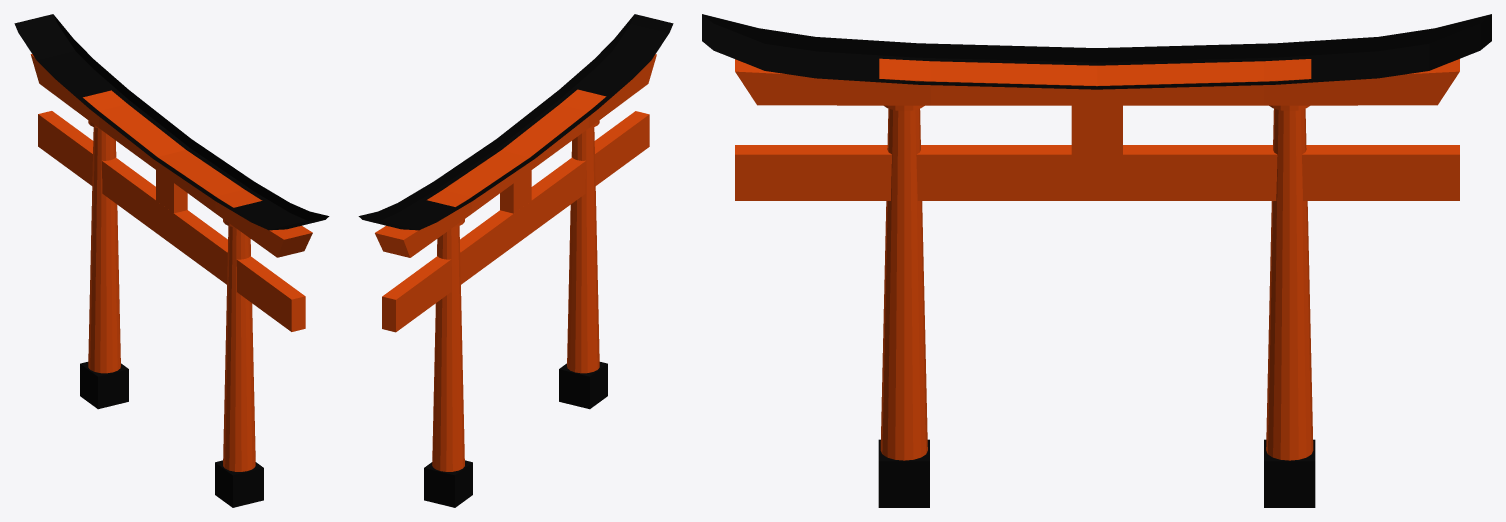
Rendered from Spawnpoint_01_rdy.fbx.
3 views of the same model, side by side, from view 1: azimuth 30°, elevation 25°; view 2: azimuth 150°, elevation 25°; view 3: azimuth 270°, elevation 25° (orthographic). The views are drawn at different scales.
Parts seen in each view (by area): view 1: Cube.003, Cube.005, Cube.004, Cylinder.002, Cylinder, Cube, Cube.001, Cube.002; view 2: Cube.003, Cube.005, Cube.004, Cylinder, Cylinder.002, Cube, Cube.001, Cube.002; view 3: Cube.003, Cube.004, Cube.005, Cylinder, Cylinder.002, Cube, Cube.001, Cube.002.
Part boxes in pixels (x1=…): Cube.003: x1=38, y1=111, x2=305, y2=331; Cube.005: x1=14, y1=14, x2=329, y2=230; Cube.004: x1=30, y1=54, x2=312, y2=257; Cylinder.002: x1=88, y1=127, x2=120, y2=373; Cylinder: x1=223, y1=226, x2=255, y2=471; Cube: x1=80, y1=362, x2=128, y2=409; Cube.001: x1=215, y1=460, x2=263, y2=507; Cube.002: x1=156, y1=170, x2=187, y2=213; Cube.003: x1=382, y1=111, x2=649, y2=332; Cube.005: x1=358, y1=14, x2=673, y2=230; Cube.004: x1=375, y1=54, x2=656, y2=257; Cylinder: x1=567, y1=127, x2=599, y2=373; Cylinder.002: x1=432, y1=226, x2=464, y2=471; Cube: x1=424, y1=460, x2=472, y2=507; Cube.001: x1=559, y1=362, x2=607, y2=409; Cube.002: x1=500, y1=170, x2=531, y2=213; Cube.003: x1=735, y1=145, x2=1459, y2=200; Cube.004: x1=735, y1=58, x2=1459, y2=105; Cube.005: x1=702, y1=14, x2=1491, y2=89; Cylinder: x1=880, y1=108, x2=927, y2=460; Cylinder.002: x1=1266, y1=108, x2=1313, y2=460; Cube: x1=1264, y1=439, x2=1315, y2=507; Cube.001: x1=878, y1=439, x2=929, y2=507; Cube.002: x1=1071, y1=105, x2=1122, y2=154.
Size of the model in its own units: 504 by 4032 by 6148.
